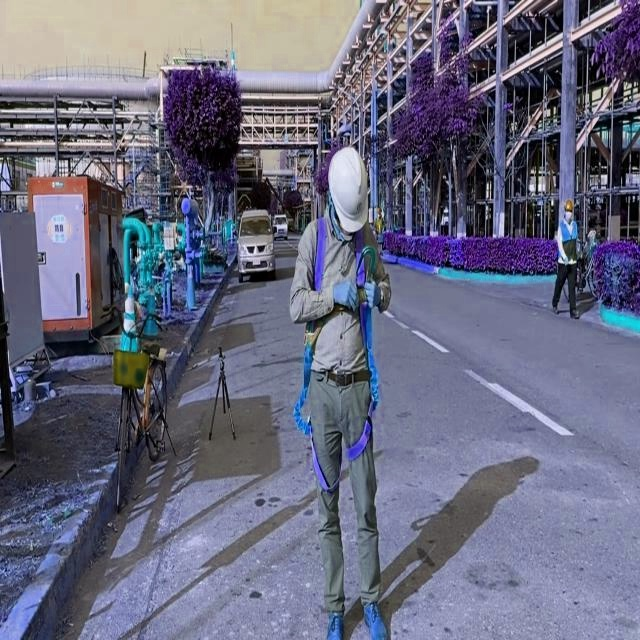safety belt: (305, 219, 402, 486)
